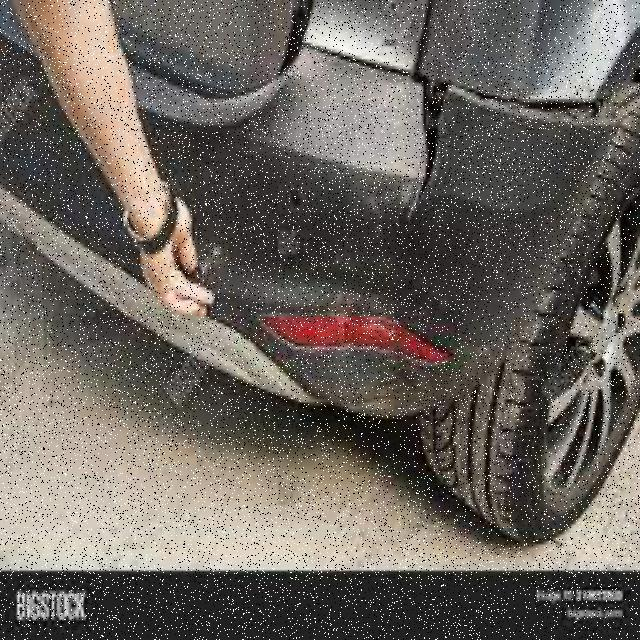rear-bumper-dent: (71, 20, 612, 422)
